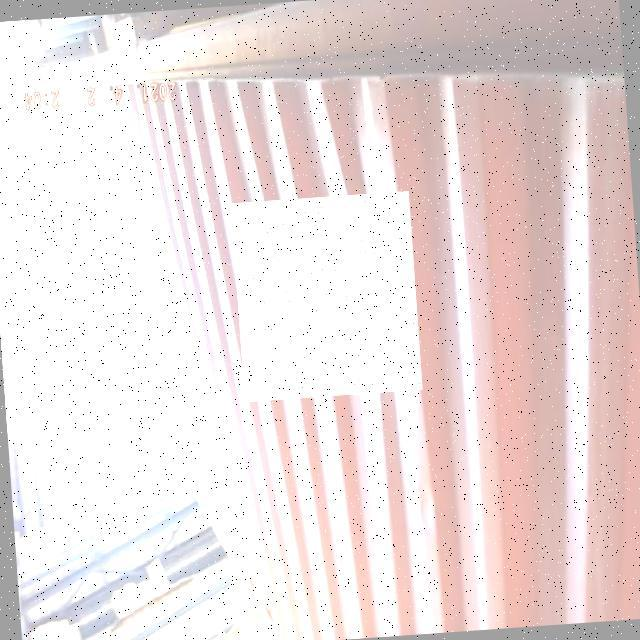Dent: (231, 191, 422, 402)
